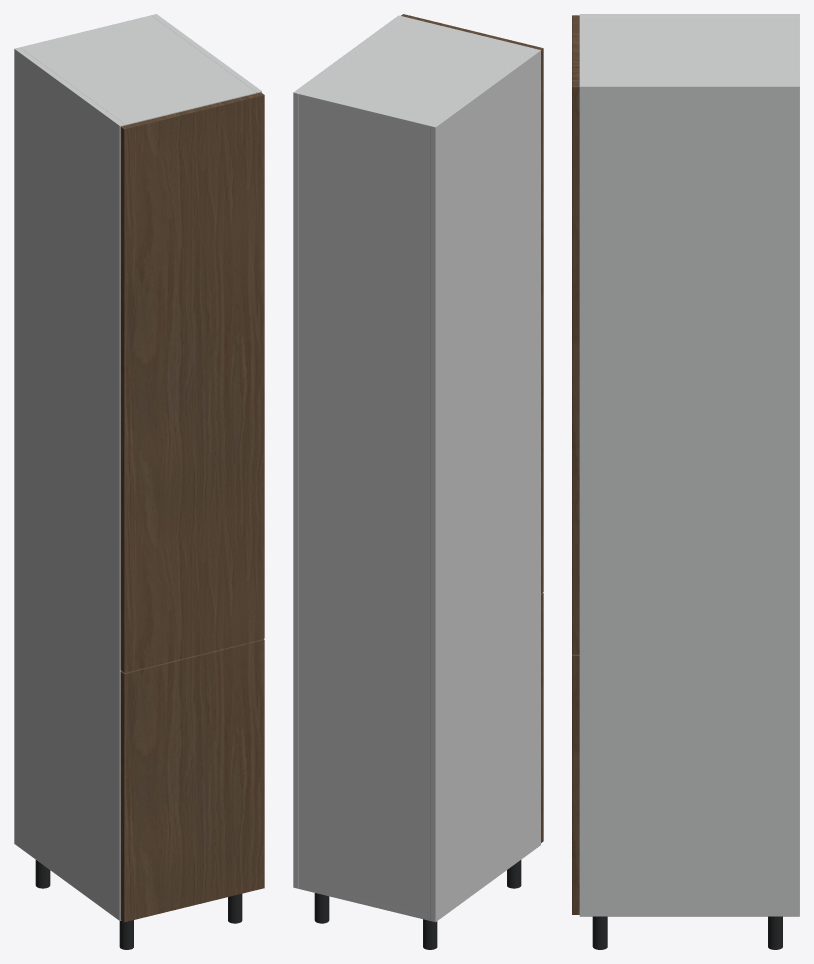
The model's file is oppein-pb-mso-pc1896.glb.
3 renders of one model, left to right at view 1: azimuth 30°, elevation 25°; view 2: azimuth 150°, elevation 25°; view 3: azimuth 270°, elevation 25°, orthographic. The views are drawn at different scales.
Visible parts, largest first — view 1: Cabinet side, Upper pantry door, Lower pantry door, Cabinet top, Cabinet side.001; view 2: Cabinet back, Cabinet side, Cabinet top, Cabinet side.001, Upper pantry door, Cabinet bottom, Lower pantry door; view 3: Cabinet side.001, Cabinet top, Upper pantry door, Lower pantry door, Cabinet side, Adjustable foot.003, Adjustable foot.002.
Part boxes in pixels (<box>): Cabinet side: <box>14,47,125,920</box>; Upper pantry door: <box>120,92,264,672</box>; Lower pantry door: <box>120,639,264,922</box>; Cabinet top: <box>22,17,256,125</box>; Cabinet side.001: <box>151,14,261,93</box>; Cabinet back: <box>299,92,431,920</box>; Cabinet side: <box>430,49,540,922</box>; Cabinet top: <box>299,17,534,130</box>; Cabinet side.001: <box>293,15,403,888</box>; Upper pantry door: <box>401,14,543,593</box>; Cabinet bottom: <box>299,884,429,920</box>; Lower pantry door: <box>541,592,543,842</box>; Cabinet side.001: <box>579,83,799,916</box>; Cabinet top: <box>579,17,795,83</box>; Upper pantry door: <box>572,15,579,654</box>; Lower pantry door: <box>572,654,579,914</box>; Cabinet side: <box>579,14,799,16</box>; Adjustable foot.003: <box>592,916,607,949</box>; Adjustable foot.002: <box>768,916,782,949</box>.
Size of the model in its own units: 0.4572 by 2.55 by 0.6064.
3 materials, 1 textured.
